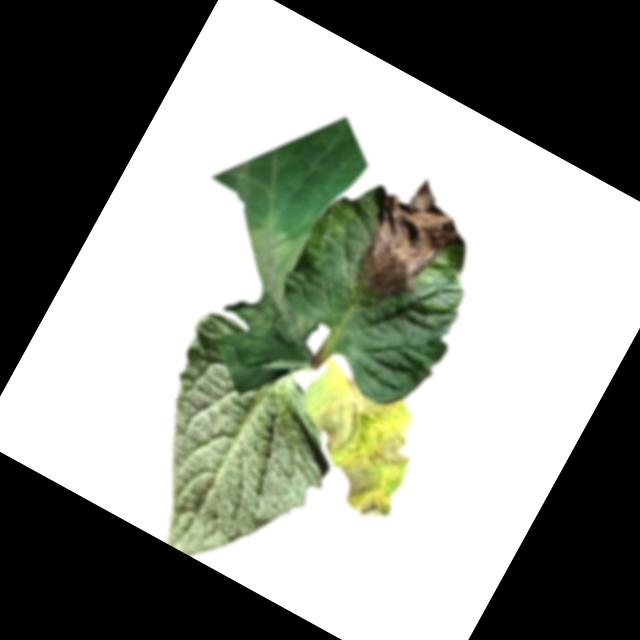Late_blight: (281, 365, 440, 526), (206, 203, 358, 361), (339, 164, 478, 316)
healthy: (97, 307, 370, 595)
